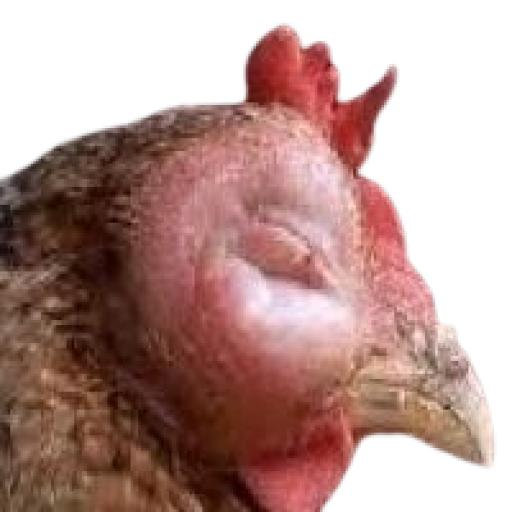disease: (96, 71, 480, 461)
